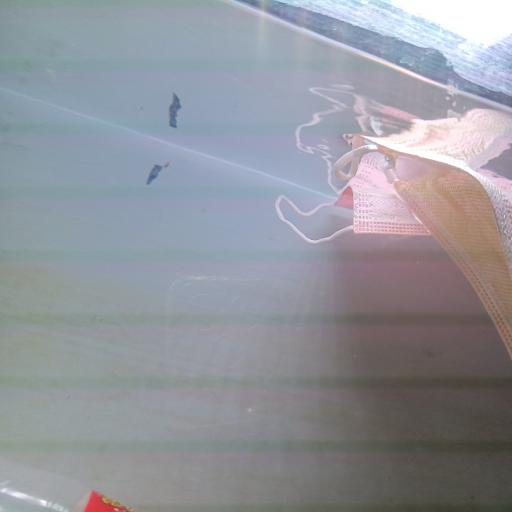mask: (334, 128, 512, 343), (268, 178, 430, 259)
plastic_bottle: (3, 456, 145, 512)
